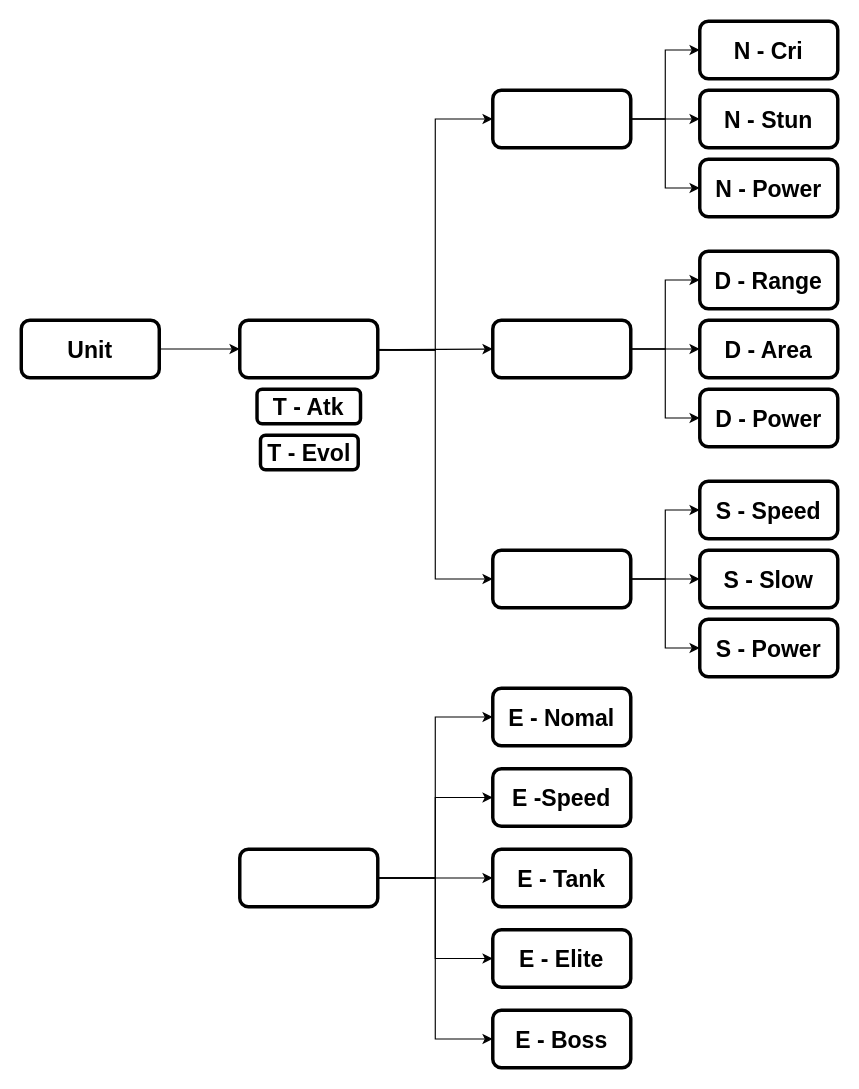
The diagram is 859 pixels wide and 1089 high, and some of its shapes have lost their labels. Here are the shapes that lost their labels. From the top down, the box of each, then its label:
(490, 88, 632, 149): Nemo
(237, 318, 379, 379): Tower
(490, 318, 632, 379): Dongrami
(490, 548, 632, 609): Semo
(237, 847, 379, 908): Enemy
